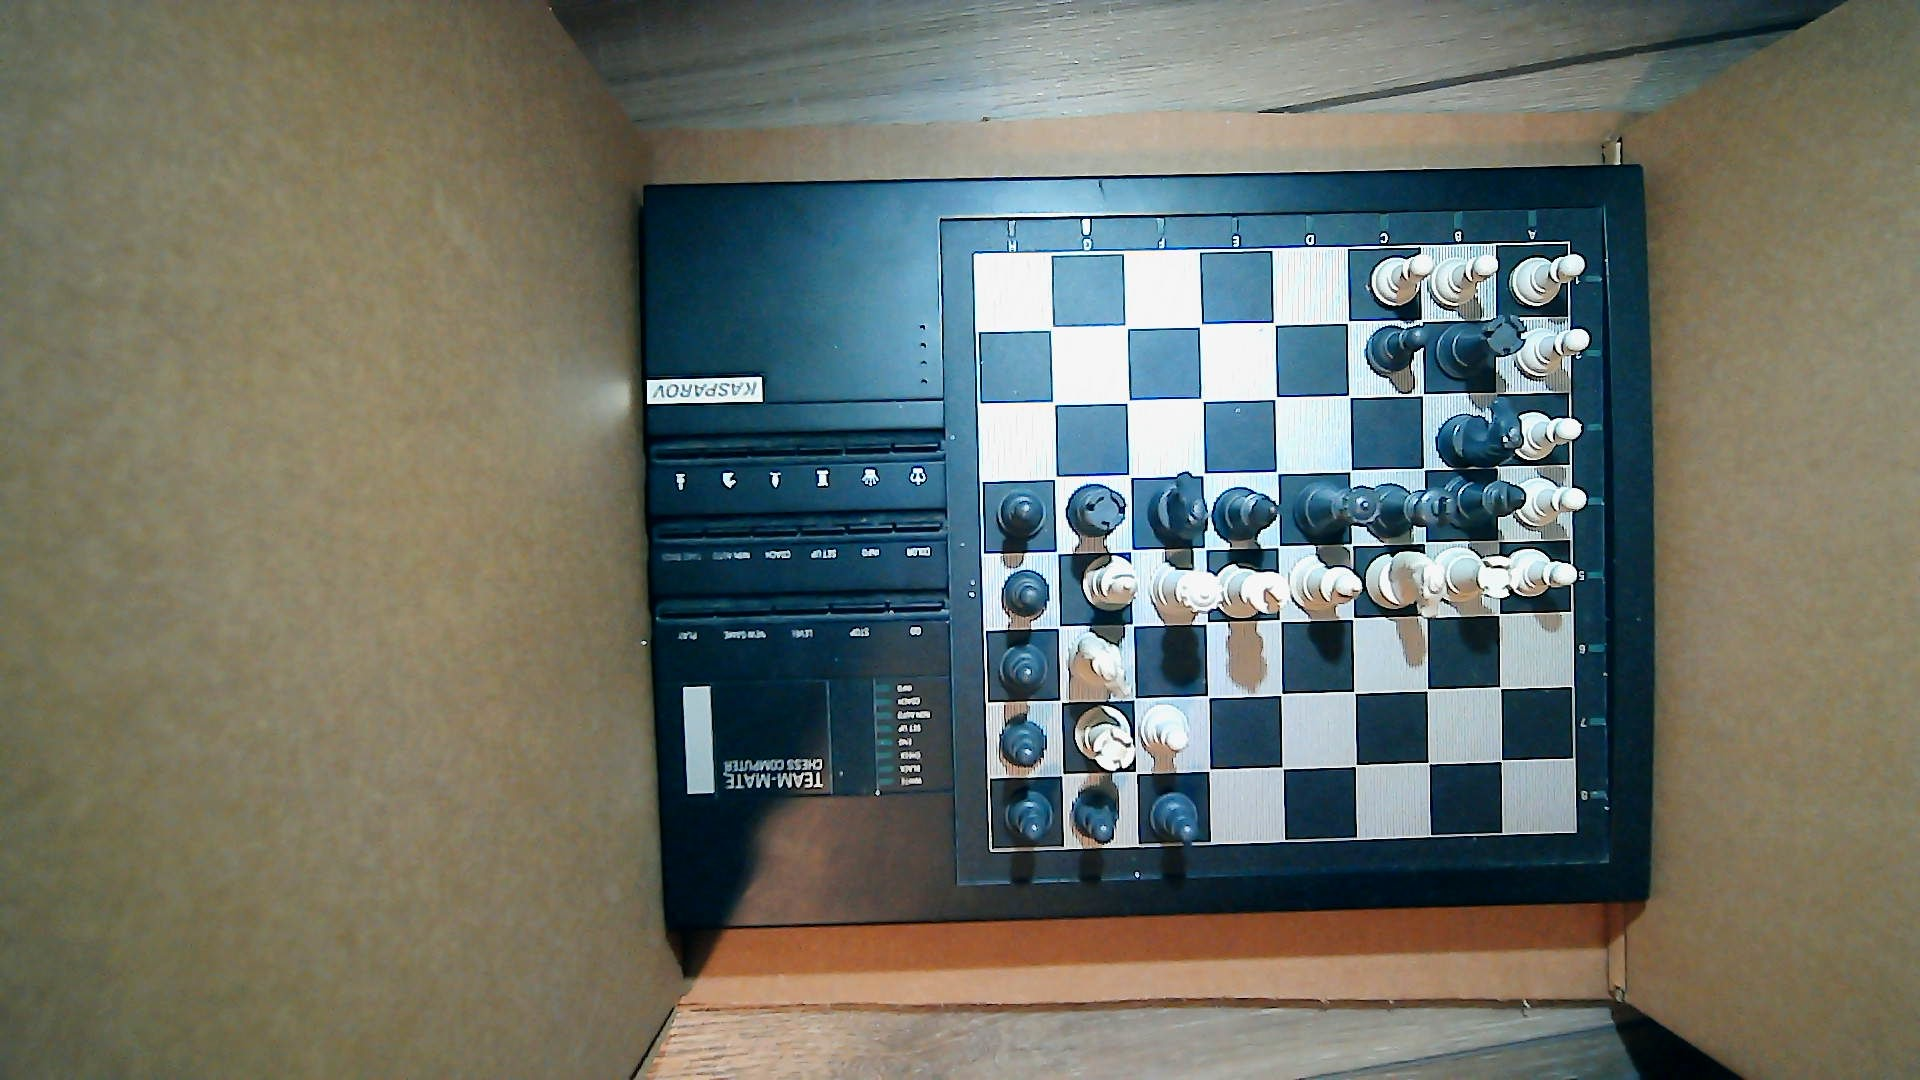bbishop: (1441, 473, 1524, 529), (1211, 485, 1279, 543)
bking: (1365, 483, 1458, 539)
bknight: (1436, 396, 1524, 467), (1149, 471, 1211, 541)
bqueen: (1294, 480, 1383, 535)
brook: (1436, 311, 1526, 376), (1064, 483, 1126, 539)
wbishop: (1290, 550, 1364, 615), (1081, 554, 1139, 612)
wking: (1218, 560, 1292, 617)
wknight: (1365, 550, 1443, 620), (1065, 632, 1131, 699)
wpawn: (1507, 251, 1586, 309), (1513, 475, 1586, 529), (1515, 326, 1592, 377), (1432, 251, 1501, 307), (1505, 549, 1578, 600), (1514, 410, 1586, 459), (1369, 255, 1432, 307), (1365, 324, 1428, 376), (1001, 787, 1054, 845), (1071, 789, 1122, 847), (1149, 793, 1203, 847), (1138, 702, 1189, 758), (996, 488, 1048, 542), (997, 644, 1051, 696), (1000, 717, 1047, 770), (1002, 567, 1050, 618)
wqueen: (1149, 562, 1224, 616)
wrook: (1436, 543, 1520, 605), (1073, 705, 1135, 771)
